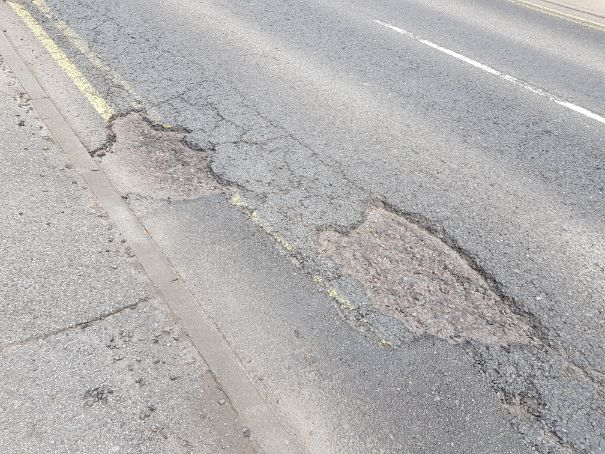pothole: (310, 195, 556, 354), (87, 104, 250, 203)
